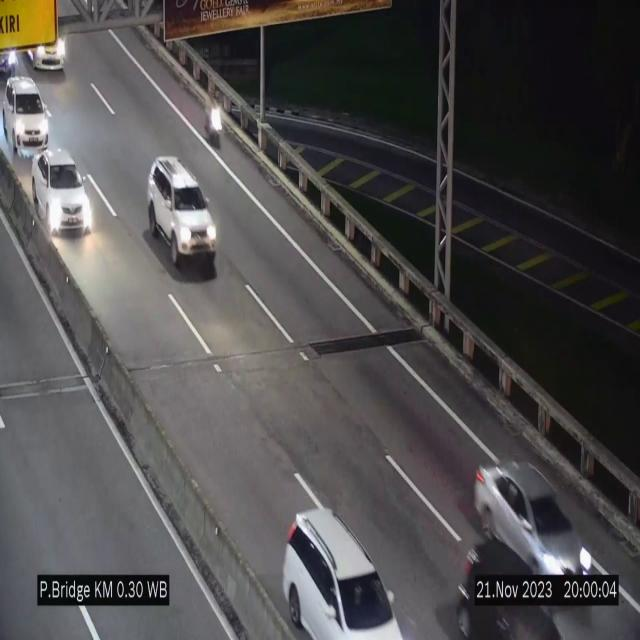Car: (475, 458, 592, 576), (147, 156, 217, 272), (33, 145, 93, 233), (0, 77, 48, 152)
Motorcycle: (198, 81, 224, 156)
